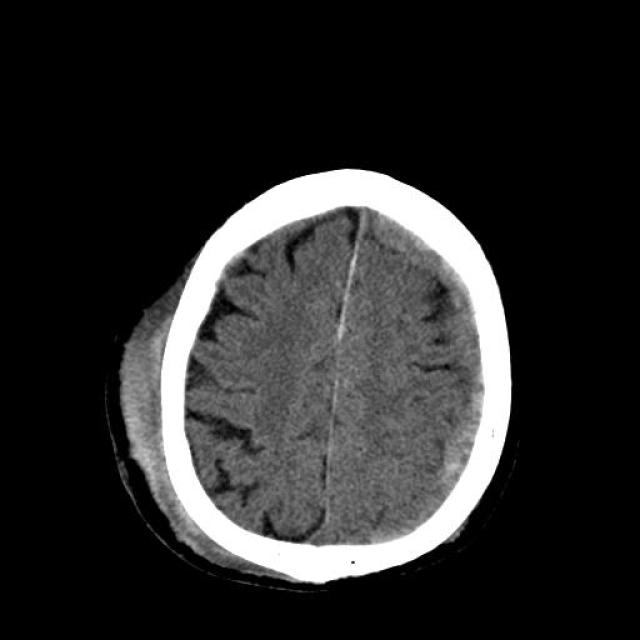Subdural: (368, 207, 502, 488)
